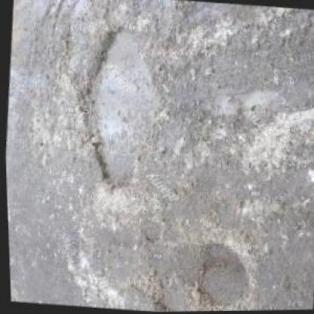Hueco: (63, 19, 167, 194), (188, 241, 252, 311), (202, 78, 280, 133)
